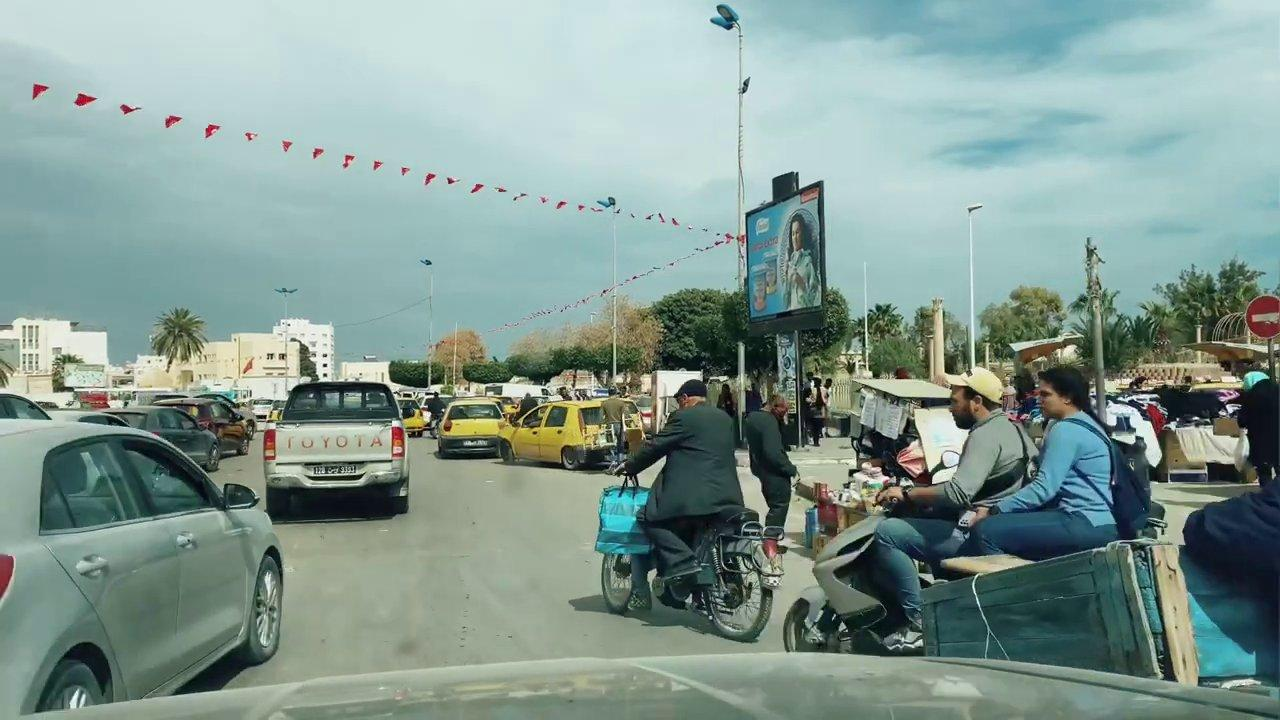no entry: (1243, 293, 1280, 338)
